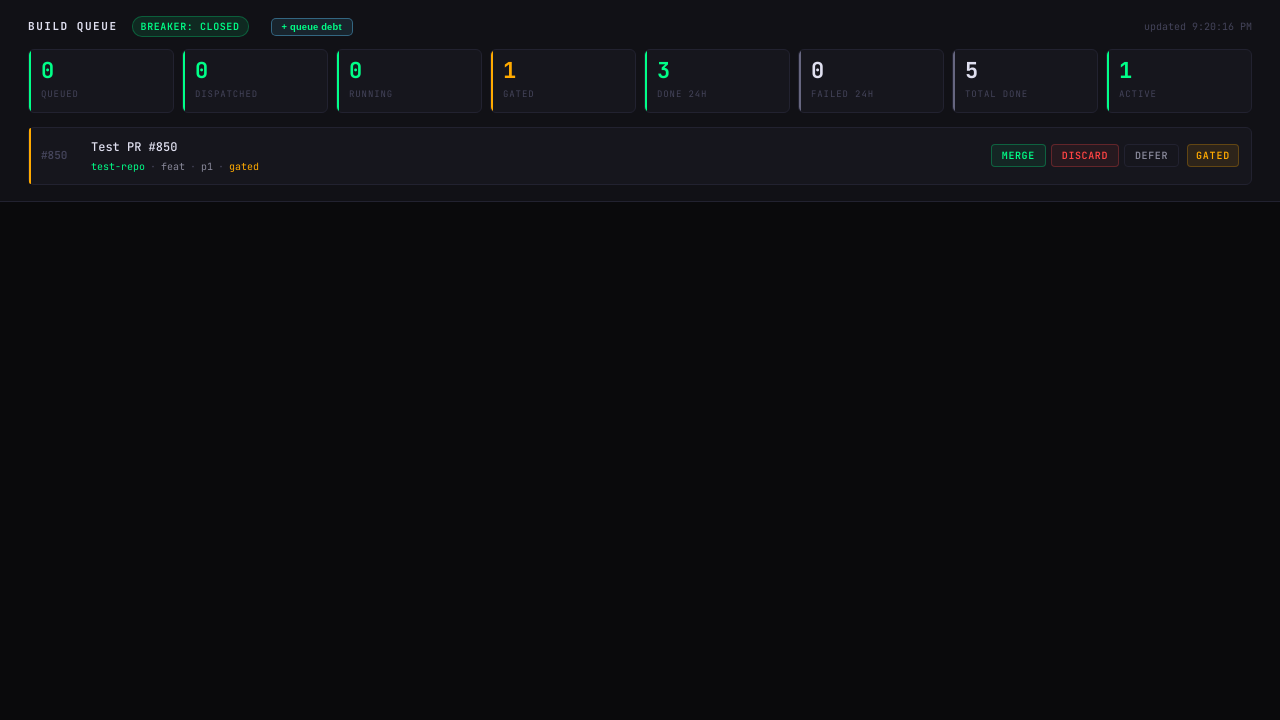
Test: QueuePanel — F spec scenarios › F2: 400 JSON → one-line error toast with error field, pending cleared
Click the button "Merge". click: x=1018, y=156
box: [991, 144, 1046, 167]
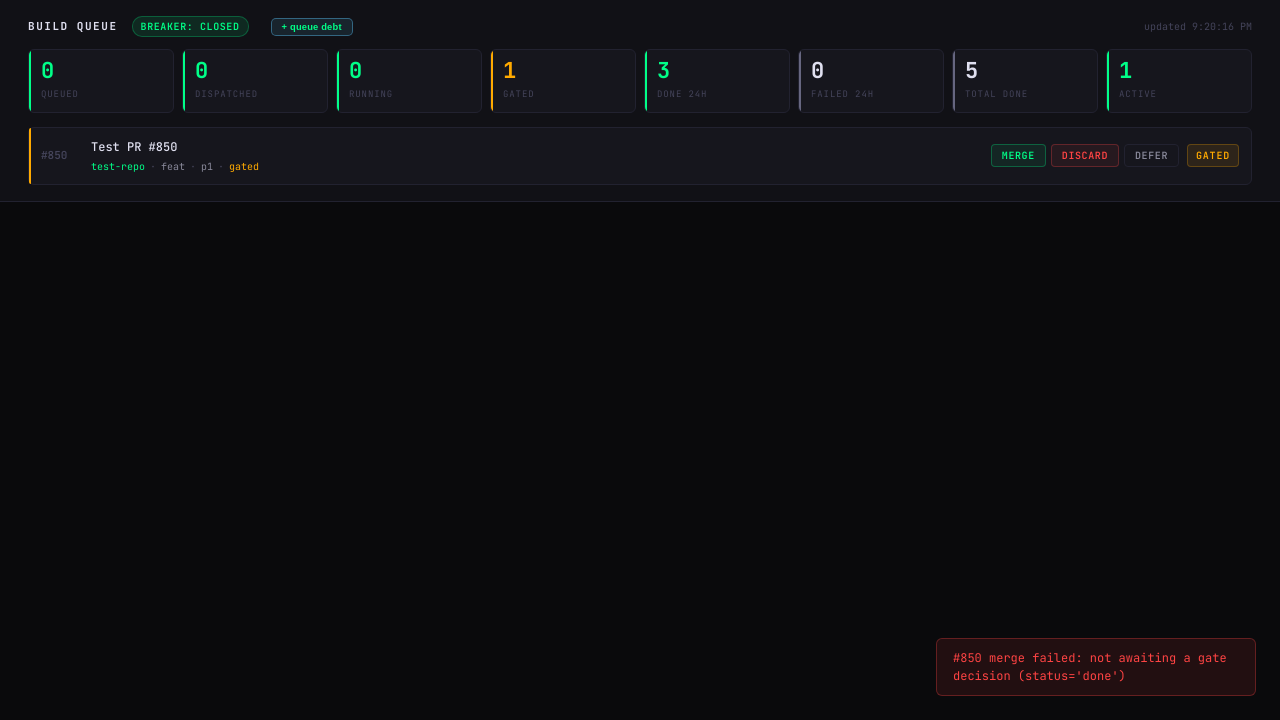
Check: the text "not awaiting a gate decision" is shown, box [953, 650, 1227, 684]
